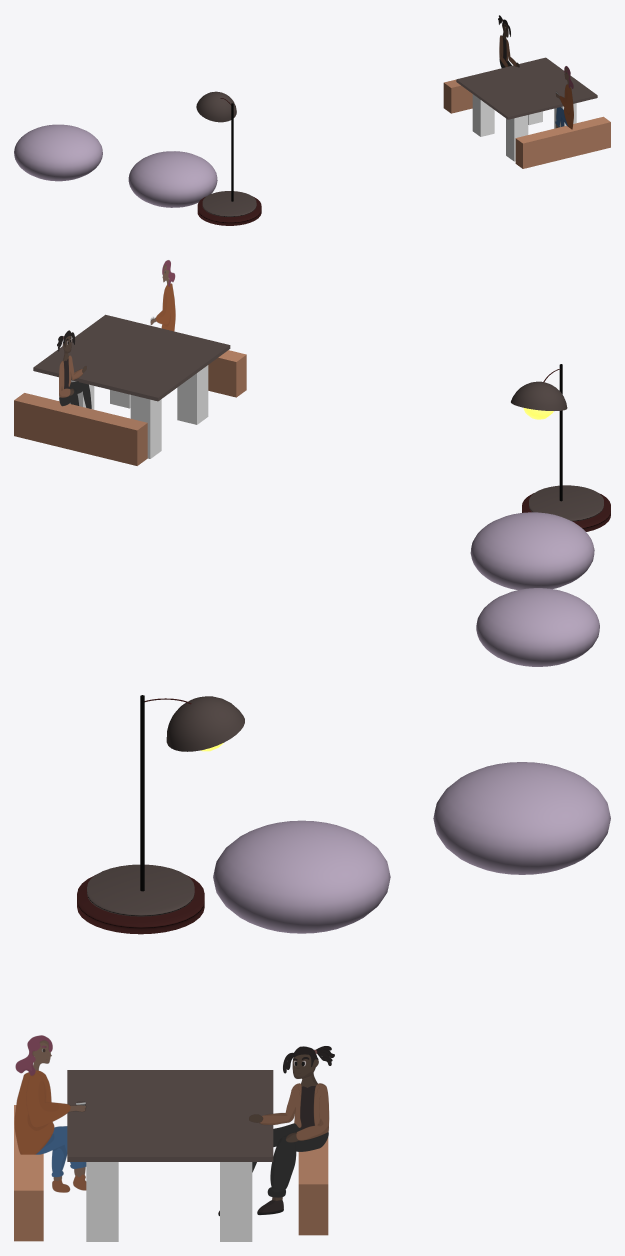
The model's file is coffee-interaction.glb.
The picture shows the model from 3 angles, top to bottom: view 1: azimuth 30°, elevation 25°; view 2: azimuth 150°, elevation 25°; view 3: azimuth 270°, elevation 25°; orthographic projection. The views are drawn at different scales.
Parts seen in each view (by area): view 1: Cube, Sphere.002, Sphere.001, Cube.002, Cylinder.001, Sphere, Cube.001, table leg.002, Cylinder.002, coffee-interaction-one-girl, table leg.001, coffee-interaction-one-guy; view 2: Cube, Sphere.002, Sphere.001, Cube.001, Cylinder.001, Cube.002, table leg.001, coffee-interaction-one-guy, Sphere, table leg.002, coffee-interaction-one-girl, Cylinder.002; view 3: Cube, Sphere.001, Sphere.002, coffee-interaction-one-guy, coffee-interaction-one-girl, Cylinder.001, Sphere, Cylinder.002, Cube.002, Cube.001, table leg, table leg.003 (+1 smaller).
Boxes of the visible parts, bbox=[...] form: Cube: bbox=[456, 57, 597, 119]; Sphere.002: bbox=[14, 124, 102, 181]; Sphere.001: bbox=[128, 151, 217, 207]; Cube.002: bbox=[515, 116, 610, 168]; Cylinder.001: bbox=[202, 191, 256, 216]; Sphere: bbox=[196, 91, 236, 122]; Cube.001: bbox=[443, 79, 472, 113]; table leg.002: bbox=[472, 94, 494, 136]; Cylinder.002: bbox=[197, 197, 261, 225]; coffee-interaction-one-girl: bbox=[555, 66, 573, 129]; table leg.001: bbox=[506, 115, 528, 161]; coffee-interaction-one-guy: bbox=[498, 15, 519, 67]; Cube: bbox=[33, 314, 230, 401]; Sphere.002: bbox=[476, 588, 599, 666]; Sphere.001: bbox=[470, 512, 594, 589]; Cube.001: bbox=[14, 393, 147, 465]; Cylinder.001: bbox=[529, 485, 603, 521]; Cube.002: bbox=[208, 350, 246, 397]; table leg.001: bbox=[177, 365, 208, 424]; coffee-interaction-one-guy: bbox=[57, 330, 91, 408]; Sphere: bbox=[511, 381, 567, 410]; table leg.002: bbox=[130, 395, 161, 458]; coffee-interaction-one-girl: bbox=[150, 260, 175, 331]; Cylinder.002: bbox=[522, 493, 610, 531]; Cube: bbox=[67, 1070, 273, 1161]; Sphere.001: bbox=[213, 820, 390, 933]; Sphere.002: bbox=[433, 762, 610, 874]; coffee-interaction-one-guy: bbox=[218, 1046, 334, 1215]; coffee-interaction-one-girl: bbox=[14, 1035, 86, 1192]; Cylinder.001: bbox=[87, 864, 194, 916]; Sphere: bbox=[166, 696, 244, 751]; Cylinder.002: bbox=[77, 875, 204, 934]; Cube.002: bbox=[14, 1105, 43, 1241]; Cube.001: bbox=[298, 1137, 328, 1235]; table leg: bbox=[86, 1162, 118, 1241]; table leg.003: bbox=[220, 1162, 252, 1241].
Size of the model in its own units: 5.24 by 1.31 by 2.93.
Materials: 14 (3 with a texture image).
